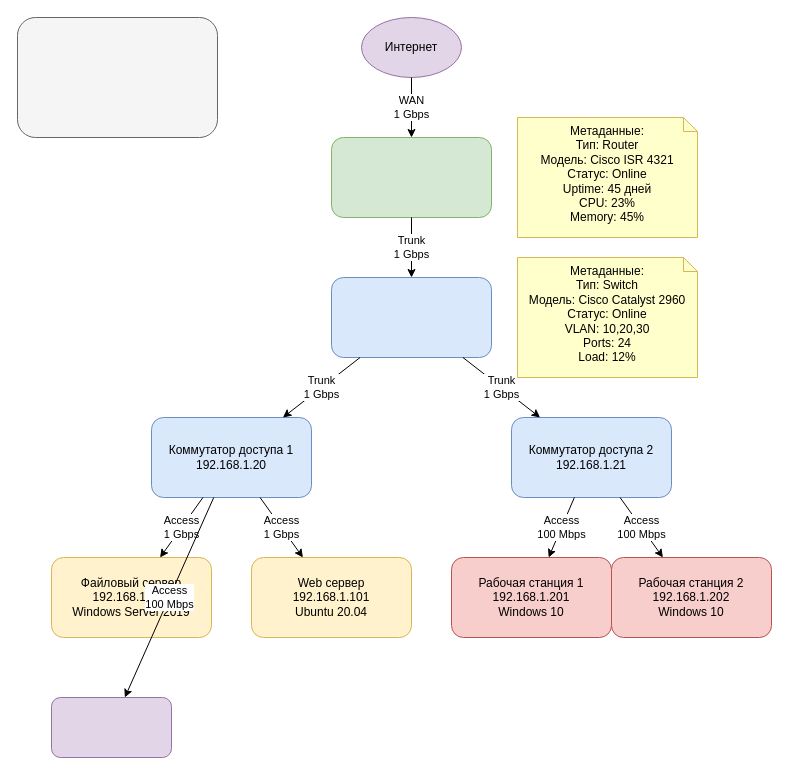
The diagram is 789 pixels wide and 775 high, and some of its shapes have lost their labels. The shapes that lost their labels are listed below. From the top down, each one's centre as x and y in pixels, then its label:
At (x=117, y=77): "Легенда: 🟢 Маршрутизаторы 🔵 Коммутаторы 🟡 Серверы 🔴 Рабочие станции 🟣 Периферия".
At (x=411, y=177): "Главный маршрутизатор 192.168.1.1".
At (x=411, y=317): "Коммутатор ядра 192.168.1.10".
At (x=111, y=727): "Принтер HP 192.168.1.150".
